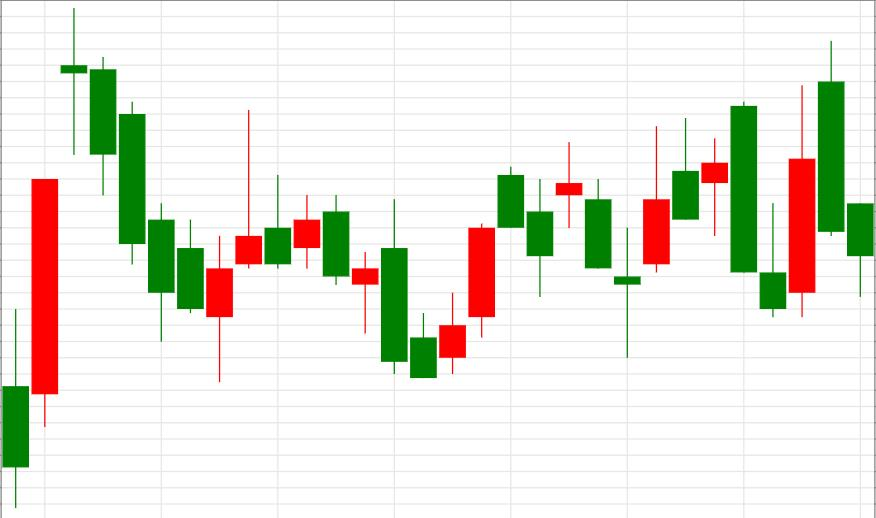bearish_engulfing_fall: (614, 102, 757, 358)
three_black_crows_fall: (2, 5, 174, 508)
